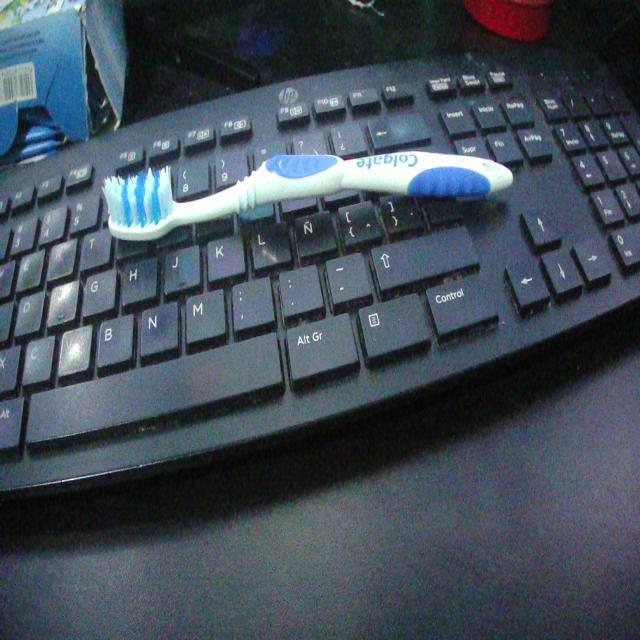Organico: (96, 137, 528, 255)
